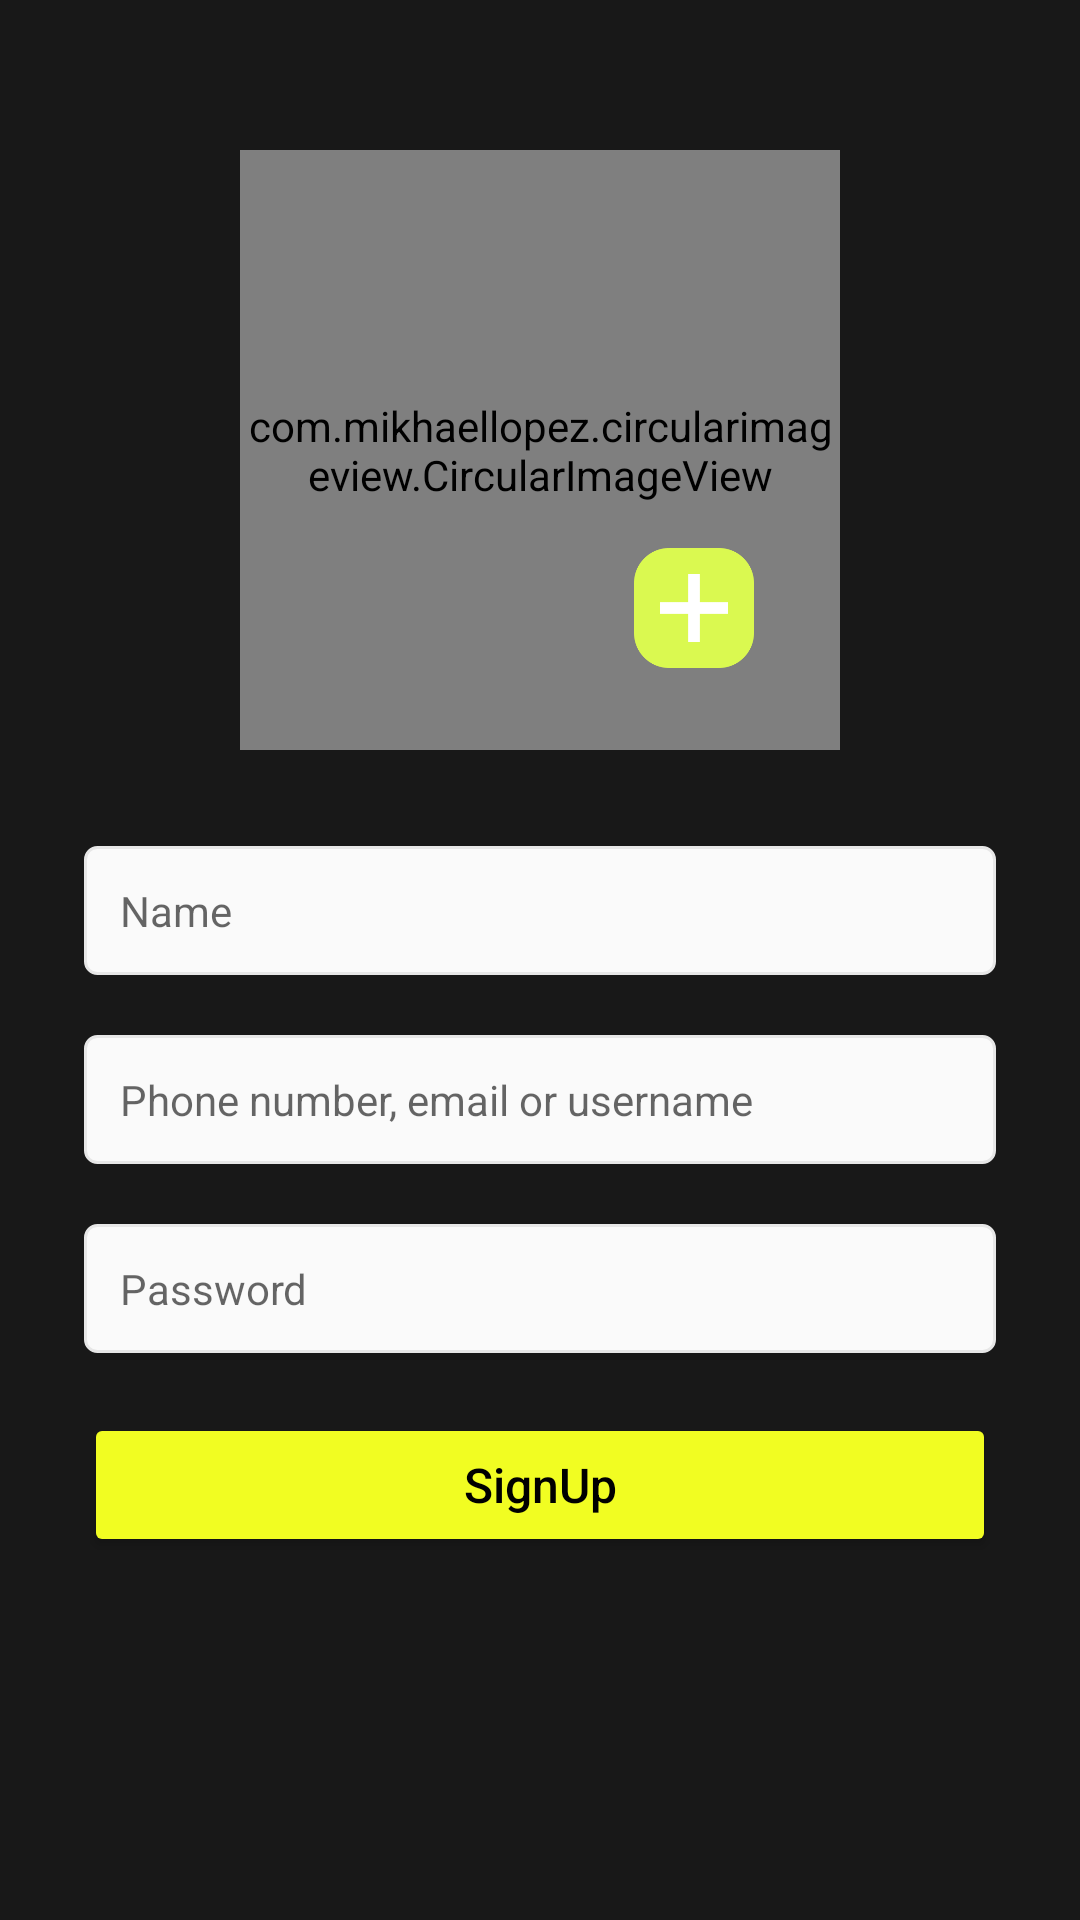

Icon bounding boxes for this 1080 × 1920 phone screenshot, format (x1, y1, x2, y2):
plus: (634, 548, 754, 668)
